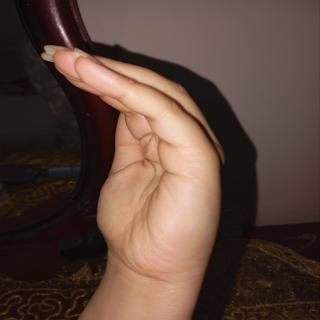HAA: (29, 35, 246, 296)
